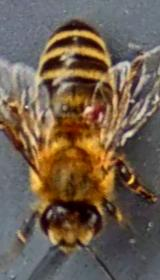varroa_mite: (70, 97, 111, 128)
